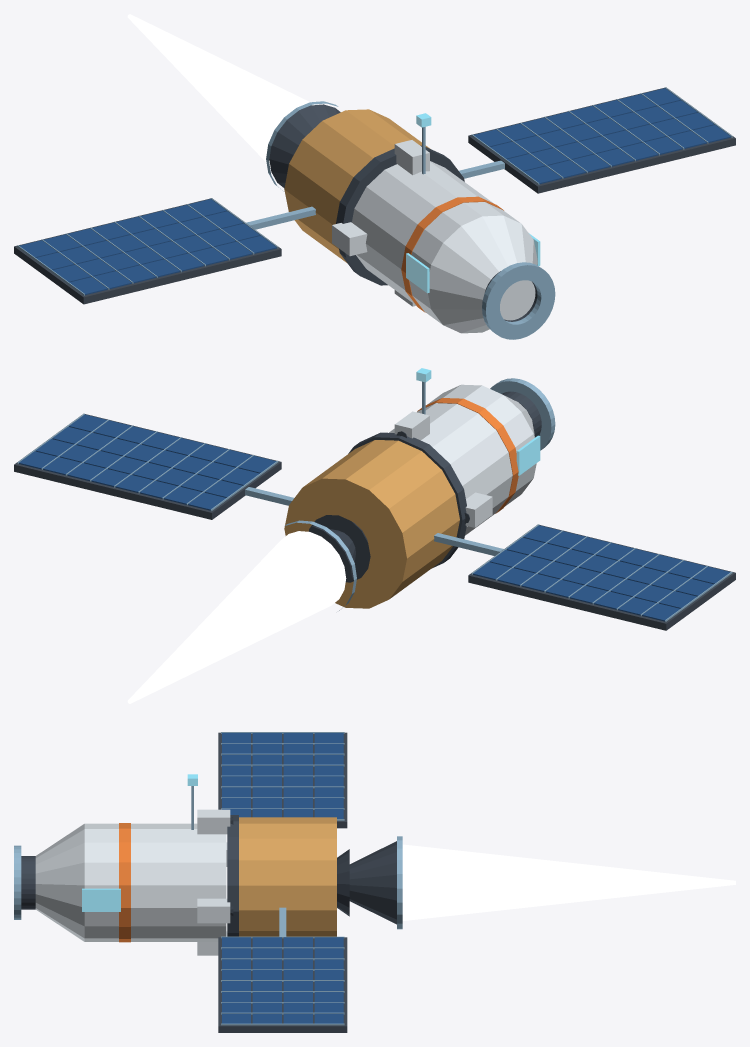
The model's file is asteria.gltf.
The picture shows the model from 3 angles, top to bottom: view 1: azimuth 30°, elevation 25°; view 2: azimuth 150°, elevation 25°; view 3: azimuth 270°, elevation 25°; orthographic projection. The views are drawn at different scales.
Parts seen in each view (by area): view 1: Pressurised cabin, Service module, Forward tapered nose, Main engine exhaust, Solar array frame (×2), Docking rim, Module separation ring, Main engine bell, Attitude thruster pod (×2), Copper identification band, Recessed sealed docking hatch, Solar array boom (+1 smaller); view 2: Service module, Main engine exhaust, Pressurised cabin, Solar array frame (×2), Engine support, Module separation ring, Attitude thruster pod (×2), Docking rim, Copper identification band, Solar array boom, Cabin viewport, Docking collar; view 3: Main engine exhaust, Pressurised cabin, Service module, Forward tapered nose, Solar array frame (×2), Main engine bell, Attitude thruster pod (×2), Copper identification band, Module separation ring, Cabin viewport, Docking collar, Engine support (+2 smaller).
Part boxes in pixels (bbox=[...]): Pressurised cabin: bbox=[352, 161, 519, 324]; Service module: bbox=[284, 109, 430, 263]; Forward tapered nose: bbox=[428, 215, 537, 333]; Main engine exhaust: bbox=[127, 14, 315, 166]; Solar array frame (×2): bbox=[14, 87, 735, 304]; Docking rim: bbox=[482, 262, 555, 339]; Module separation ring: bbox=[336, 145, 464, 285]; Main engine bell: bbox=[269, 104, 340, 188]; Attitude thruster pod (×2): bbox=[332, 140, 429, 256]; Copper identification band: bbox=[401, 196, 503, 312]; Recessed sealed docking hatch: bbox=[500, 280, 535, 320]; Solar array boom: bbox=[246, 206, 315, 229]; Service module: bbox=[284, 440, 459, 608]; Main engine exhaust: bbox=[127, 531, 346, 703]; Pressurised cabin: bbox=[389, 384, 536, 535]; Solar array frame (×2): bbox=[14, 413, 735, 630]; Engine support: bbox=[308, 515, 370, 582]; Module separation ring: bbox=[348, 432, 466, 568]; Attitude thruster pod (×2): bbox=[394, 411, 492, 527]; Docking rim: bbox=[490, 378, 555, 450]; Copper identification band: bbox=[417, 398, 518, 513]; Solar array boom: bbox=[434, 533, 503, 555]; Cabin viewport: bbox=[516, 435, 540, 475]; Docking collar: bbox=[502, 391, 541, 437]; Main engine exhaust: bbox=[402, 844, 735, 920]; Pressurised cabin: bbox=[84, 823, 226, 941]; Service module: bbox=[239, 817, 336, 936]; Forward tapered nose: bbox=[35, 824, 84, 941]; Solar array frame (×2): bbox=[218, 732, 347, 1032]; Main engine bell: bbox=[349, 841, 396, 924]; Attitude thruster pod (×2): bbox=[197, 809, 230, 923]; Copper identification band: bbox=[119, 823, 130, 942]; Module separation ring: bbox=[227, 815, 238, 936]; Cabin viewport: bbox=[82, 888, 120, 911]; Docking collar: bbox=[21, 856, 35, 909]; Engine support: bbox=[337, 849, 349, 916].
Size of the model in its own units: 13.5 by 3.76 by 14.02.
